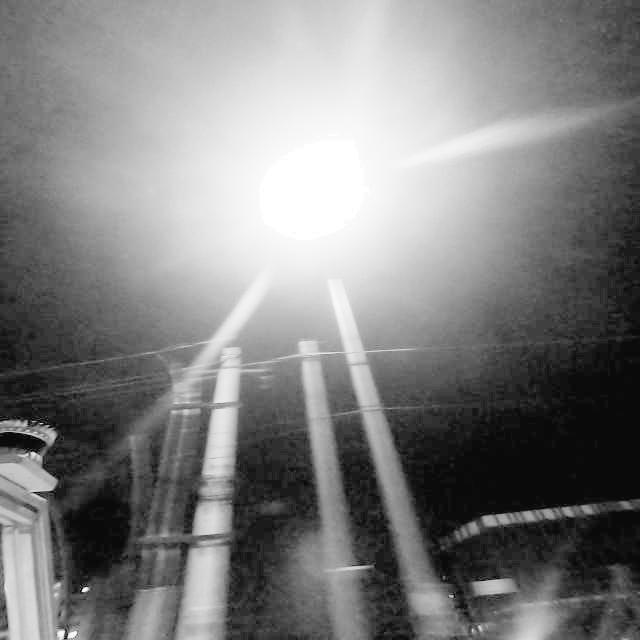Light: (248, 124, 387, 247)
